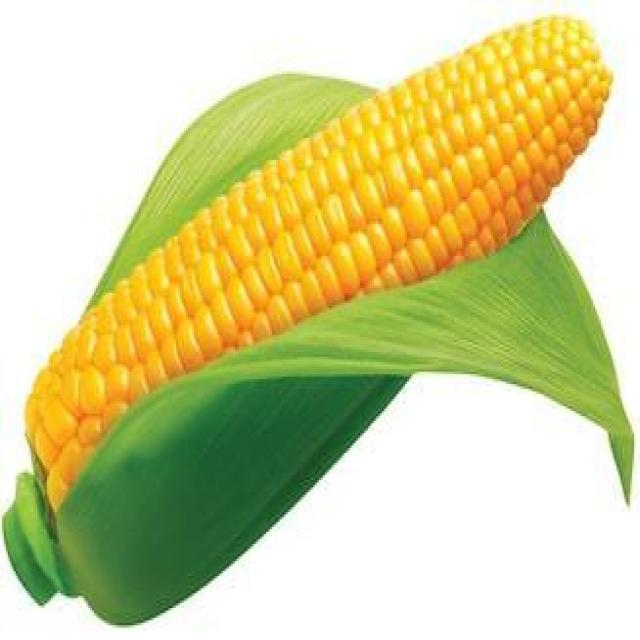Corn ear: (226, 8, 620, 313), (26, 170, 319, 499)
